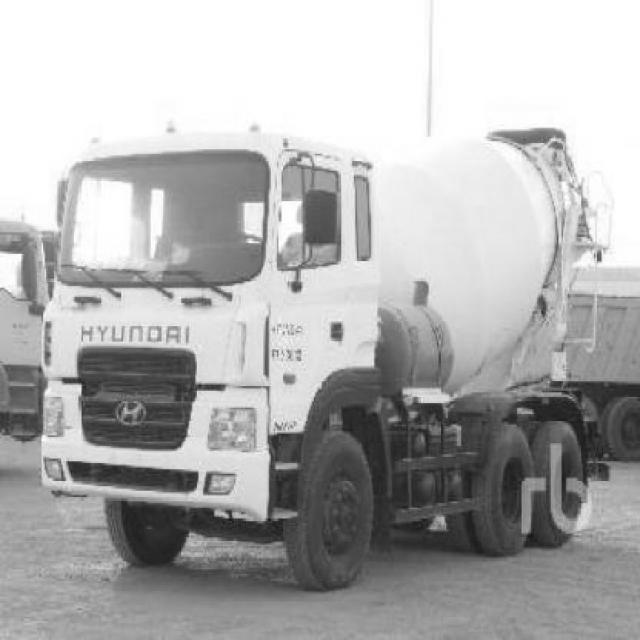Concrete Mixer: (41, 126, 613, 594)
